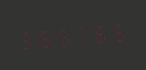five: (54, 21, 71, 50), (108, 16, 125, 45)
seven: (72, 20, 89, 48)
six: (35, 23, 52, 51), (90, 18, 107, 46)
three: (17, 24, 34, 53)
